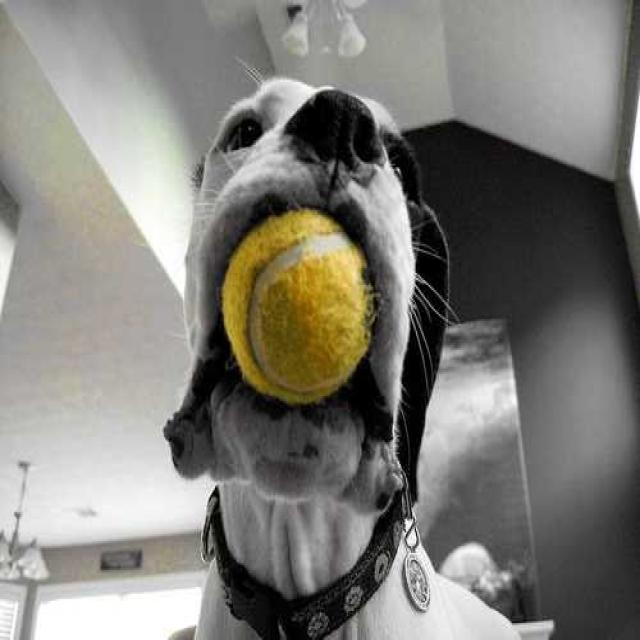Tennis_Ball: (226, 206, 371, 398)
